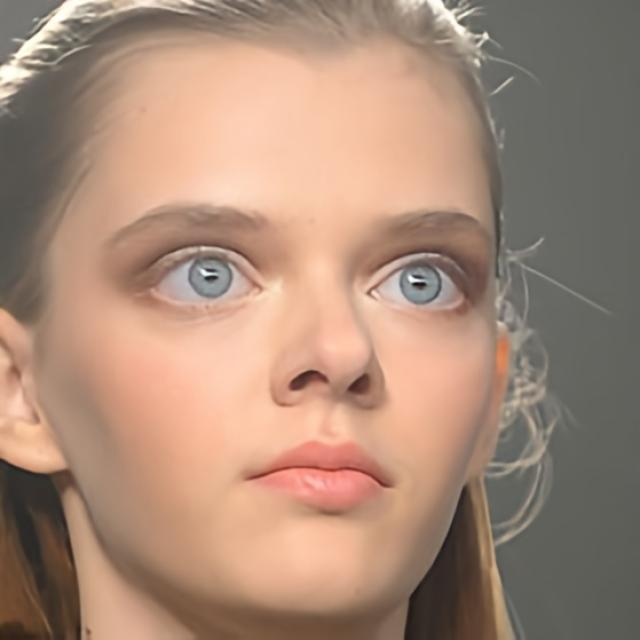fear: (30, 29, 502, 631)
